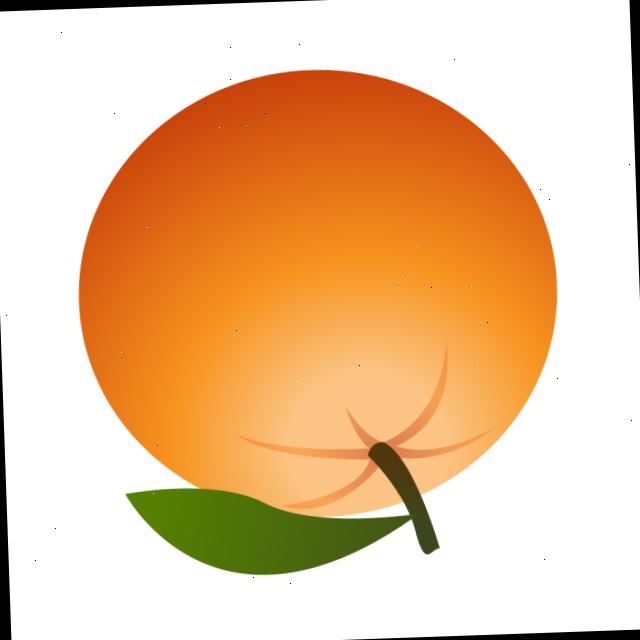Apel: (70, 61, 566, 534)
